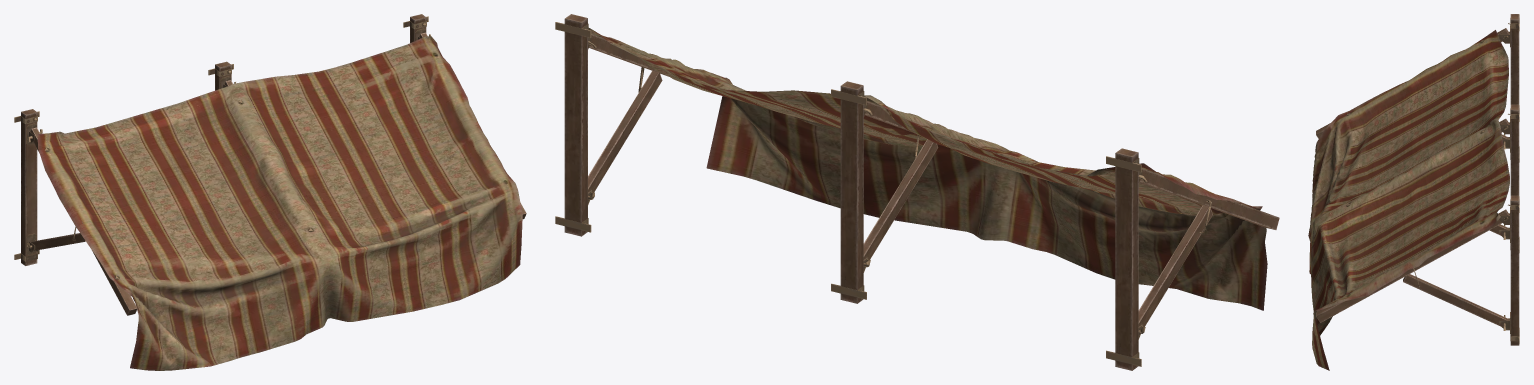
Rendered from awning.lod0.glb.
3 renders of one model, left to right at view 1: azimuth 30°, elevation 25°; view 2: azimuth 150°, elevation 25°; view 3: azimuth 270°, elevation 25°, orthographic. The views are drawn at different scales.
Visible parts, largest first — view 1: tarp_tarp_0, wood_base_0; view 2: tarp_tarp_0, wood_base_0; view 3: tarp_tarp_0, wood_base_0.
Part boxes in pixels (x1=…): tarp_tarp_0: x1=37, y1=36, x2=522, y2=370; wood_base_0: x1=14, y1=14, x2=526, y2=315; tarp_tarp_0: x1=588, y1=28, x2=1267, y2=310; wood_base_0: x1=555, y1=14, x2=1279, y2=370; tarp_tarp_0: x1=1308, y1=30, x2=1509, y2=370; wood_base_0: x1=1316, y1=14, x2=1519, y2=345.
Bounding box in the file's own units: 10.33 × 4.64 × 4.77.
Materials: 2 (2 with a texture image).
